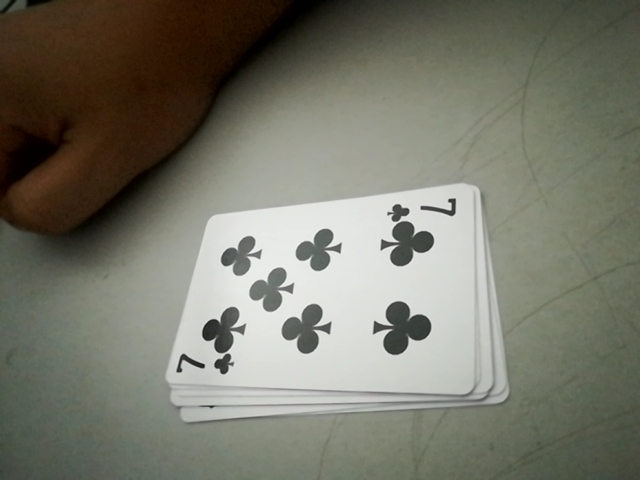mh 7: (385, 192, 465, 224), (173, 349, 235, 387)
